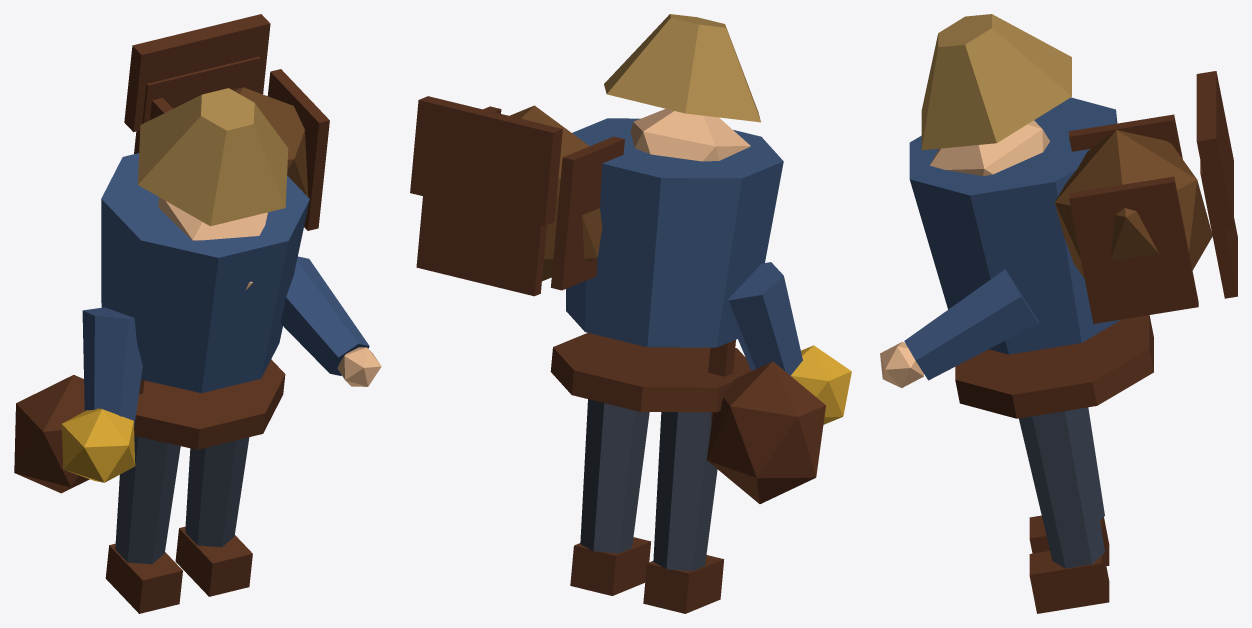
Rendered from npcpose_merchant_idle_03.glb.
3 renders of one model, left to right at view 1: azimuth 30°, elevation 25°; view 2: azimuth 150°, elevation 25°; view 3: azimuth 270°, elevation 25°, orthographic. The views are drawn at different scales.
Visible parts, largest first — view 1: npcpose; view 2: npcpose; view 3: npcpose.
Part boxes in pixels (box(x1,y1,x2,y2)): npcpose: box(14, 14, 381, 613); npcpose: box(410, 14, 851, 613); npcpose: box(880, 14, 1237, 613).
Bounding box in the file's own units: 1.2 × 1.87 × 1.07.
